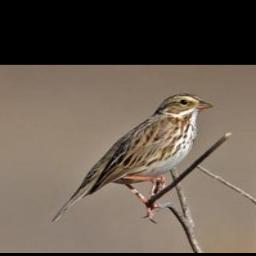Sparrow: (49, 93, 212, 224)
